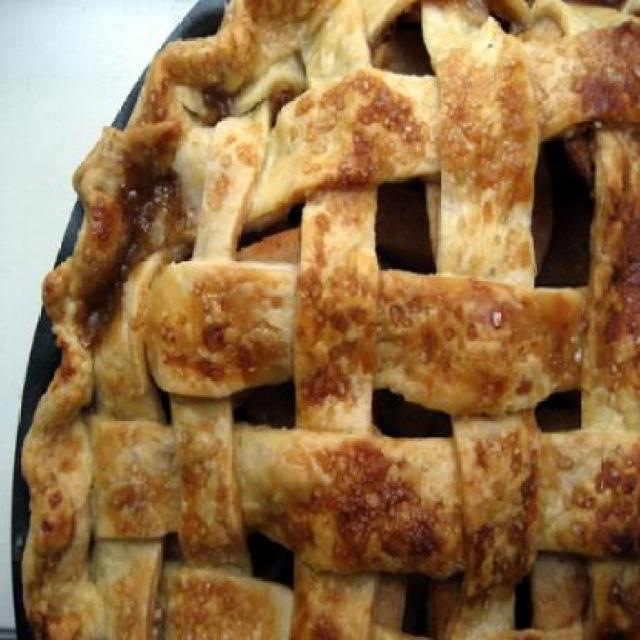Apple: (34, 7, 638, 638)
